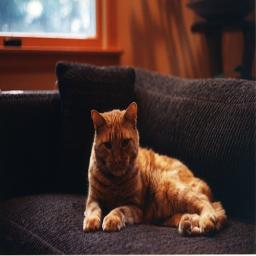catnose: (113, 156, 122, 168)
